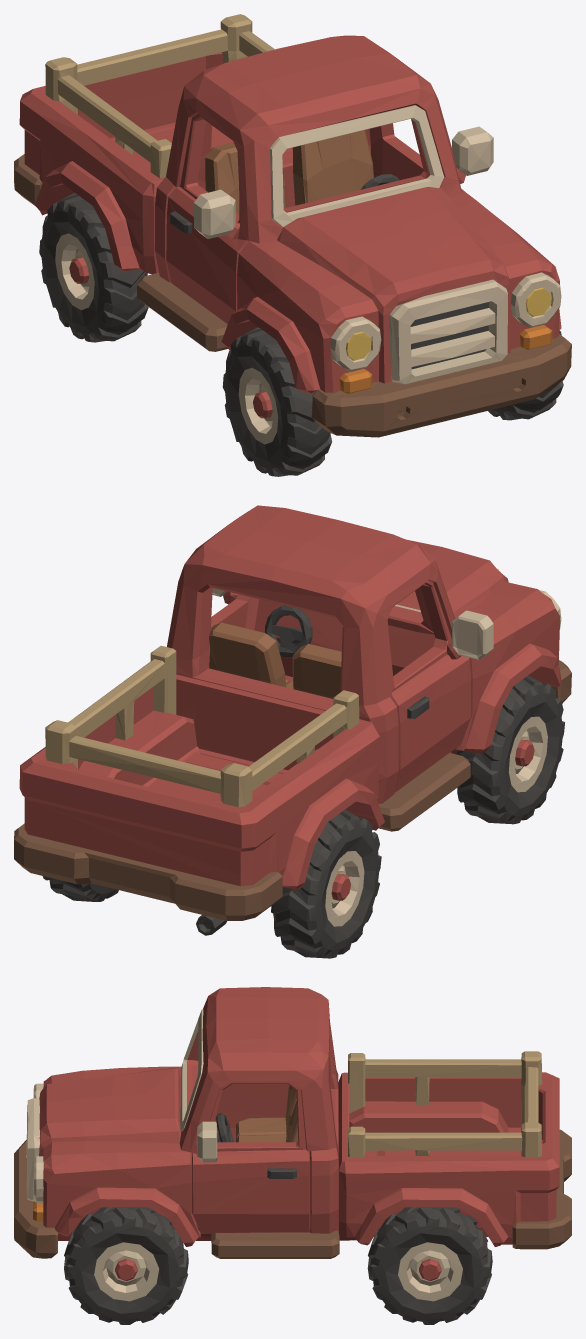
The model's file is Pickup.fbx.
The picture shows the model from 3 angles, top to bottom: view 1: azimuth 30°, elevation 25°; view 2: azimuth 150°, elevation 25°; view 3: azimuth 270°, elevation 25°; orthographic projection. The views are drawn at different scales.
Visible parts, largest first — view 1: Pickup_Base, Pickup_Tear_FR, Pickup_Tear_BR, Pickup_Tear_FL; view 2: Pickup_Base, Pickup_Tear_BR, Pickup_Tear_FR, Pickup_Steering, Pickup_Tear_BL; view 3: Pickup_Base, Pickup_Tear_BL, Pickup_Tear_FL.
Part boxes in pixels (x1,y1,x2,y2): Pickup_Base: [14, 14, 571, 437]; Pickup_Tear_FR: [222, 327, 332, 476]; Pickup_Tear_BR: [39, 193, 148, 342]; Pickup_Tear_FL: [488, 330, 563, 420]; Pickup_Base: [14, 505, 571, 935]; Pickup_Tear_BR: [271, 810, 381, 958]; Pickup_Tear_FR: [456, 675, 564, 824]; Pickup_Steering: [265, 605, 312, 657]; Pickup_Tear_BL: [42, 876, 118, 901]; Pickup_Base: [14, 987, 571, 1258]; Pickup_Tear_BL: [367, 1207, 492, 1324]; Pickup_Tear_FL: [64, 1207, 188, 1324].
Size of the model in its own units: 1.73 by 3.45 by 1.75.
